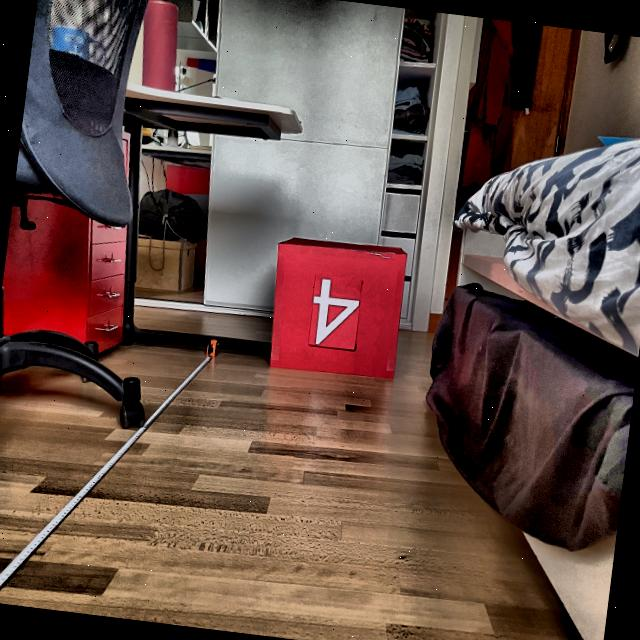four: (307, 277, 362, 350)
red box: (262, 229, 412, 383)
